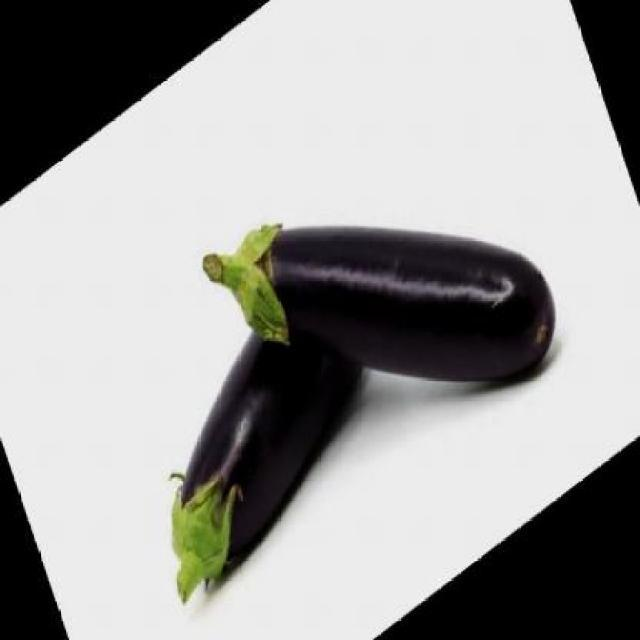eggplant: (122, 270, 393, 612), (199, 210, 556, 388)
